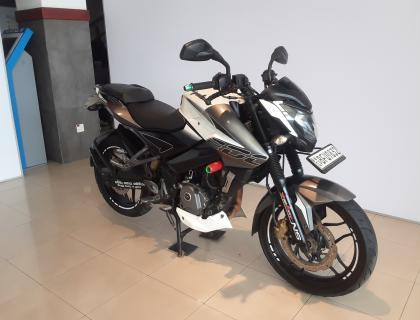motorbike: (86, 39, 379, 297)
